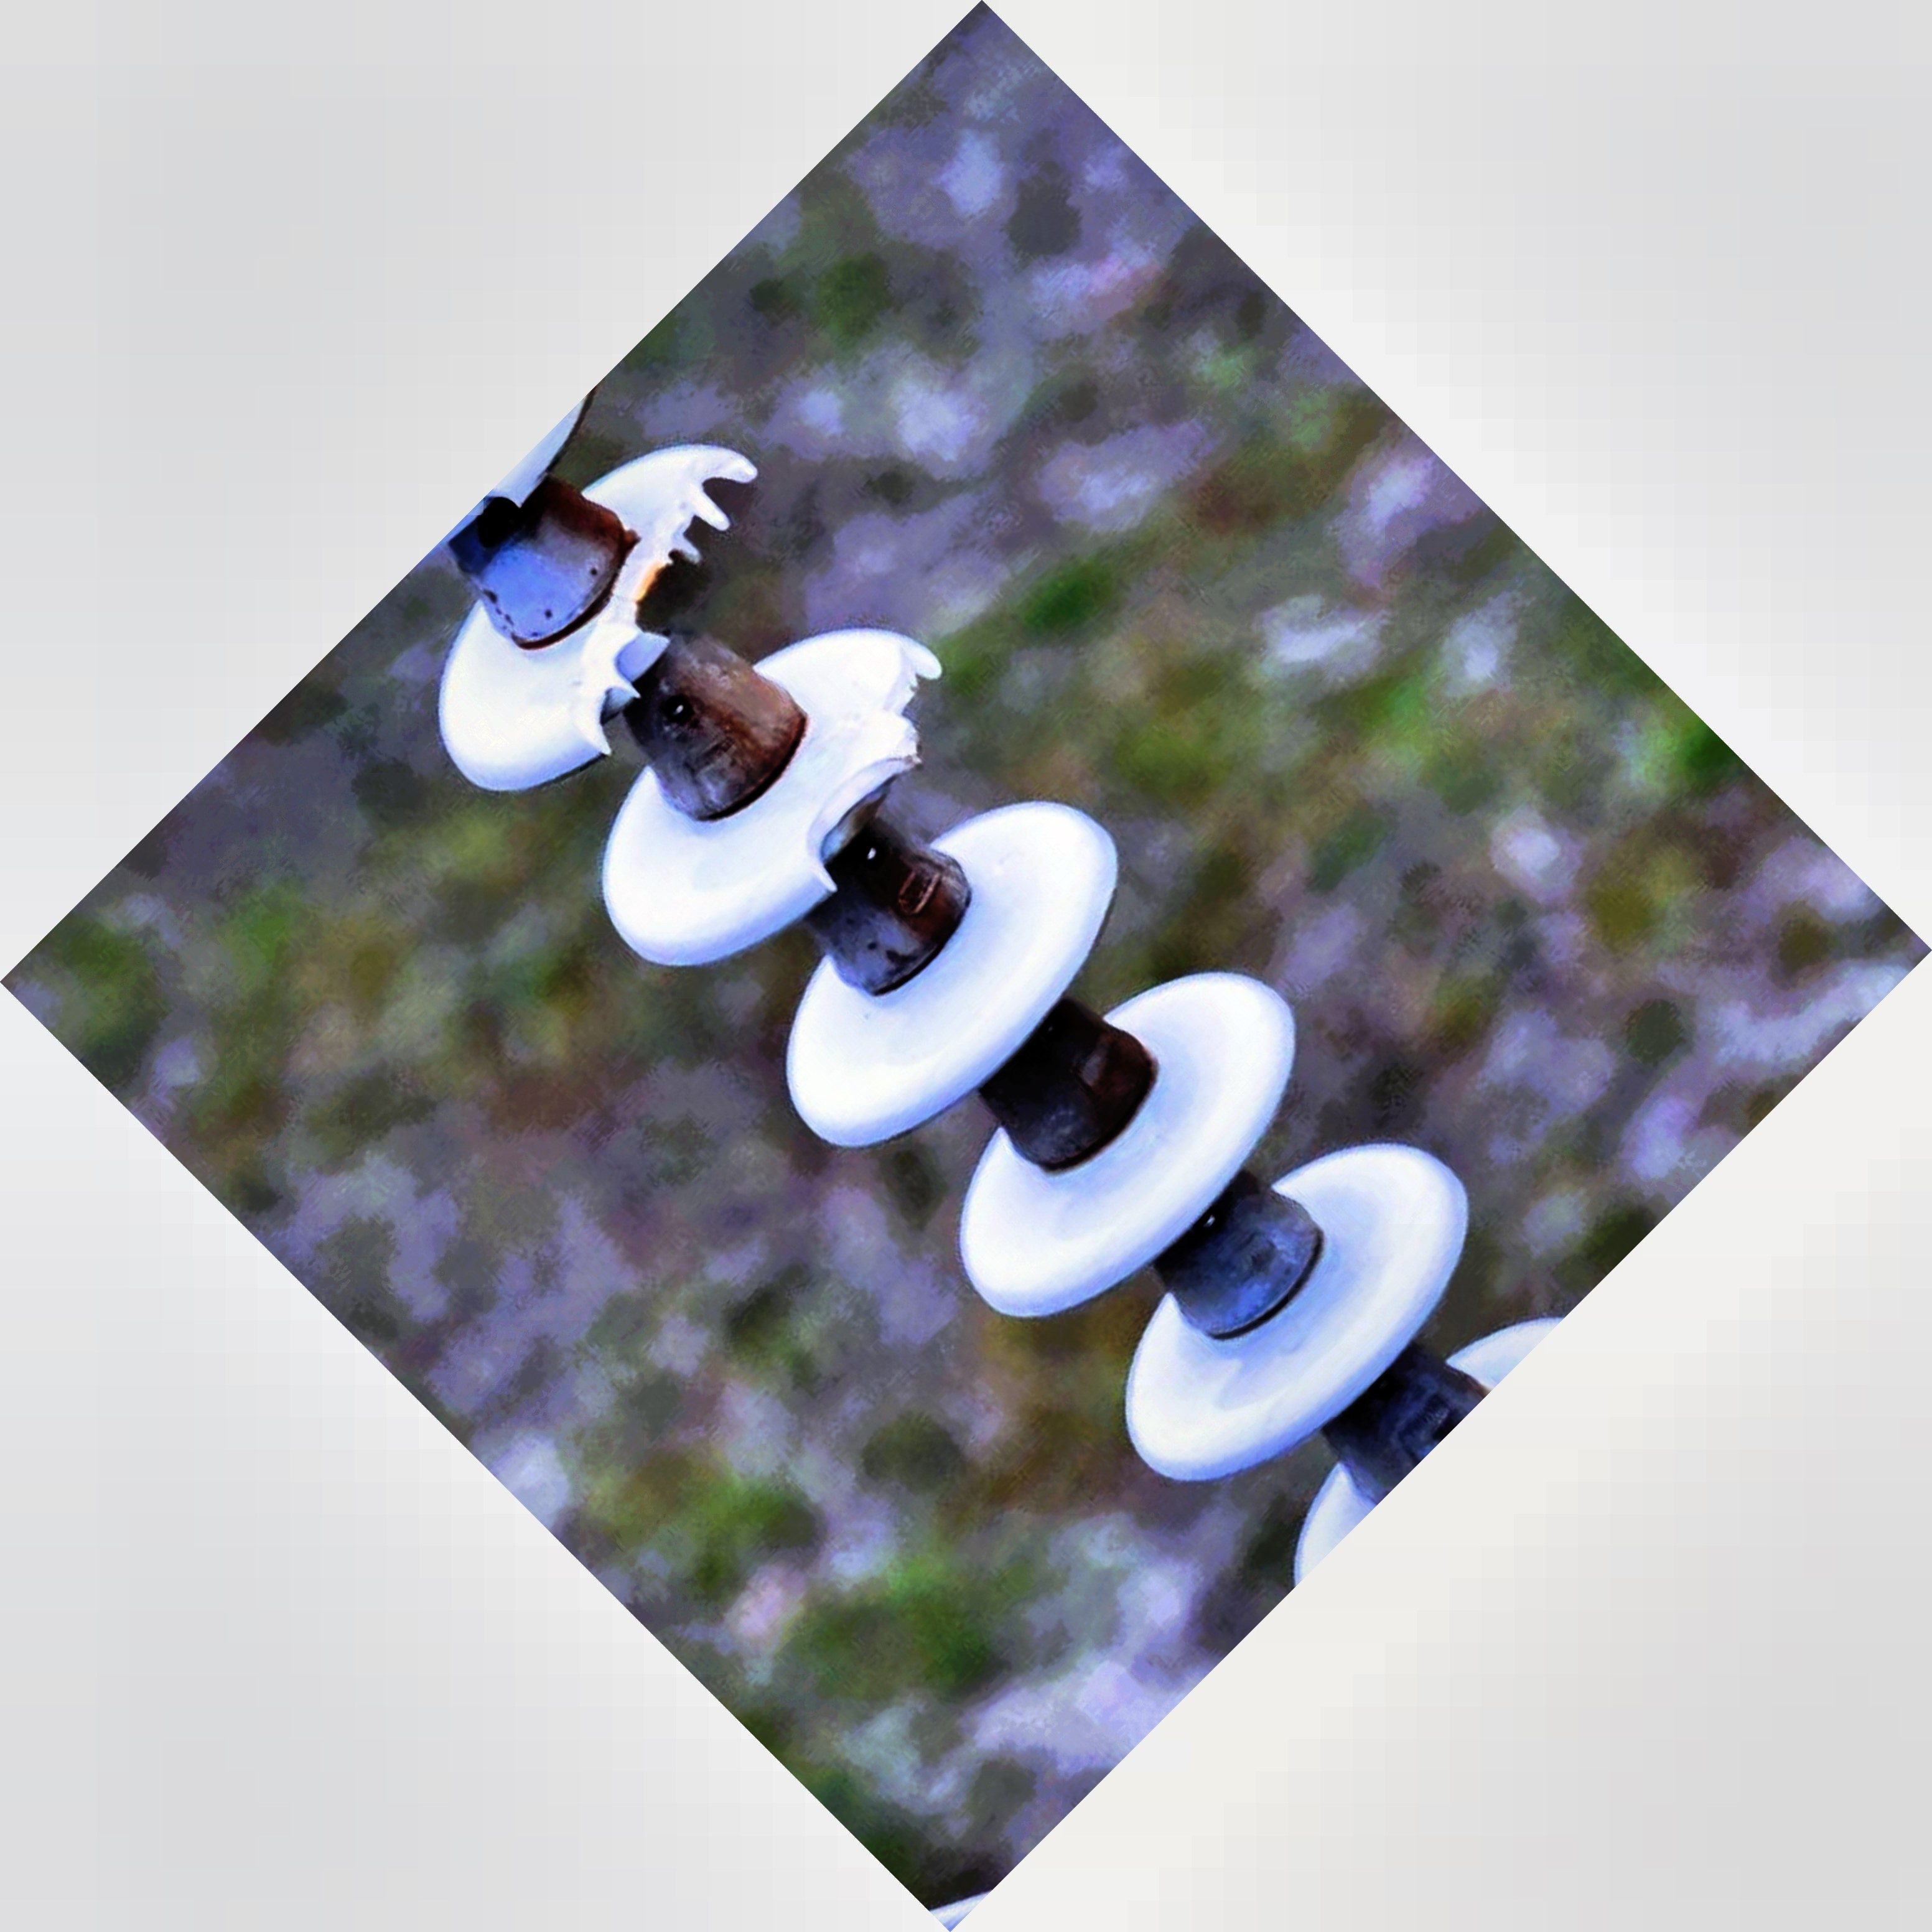insulator breakage: (412, 426, 964, 975)
